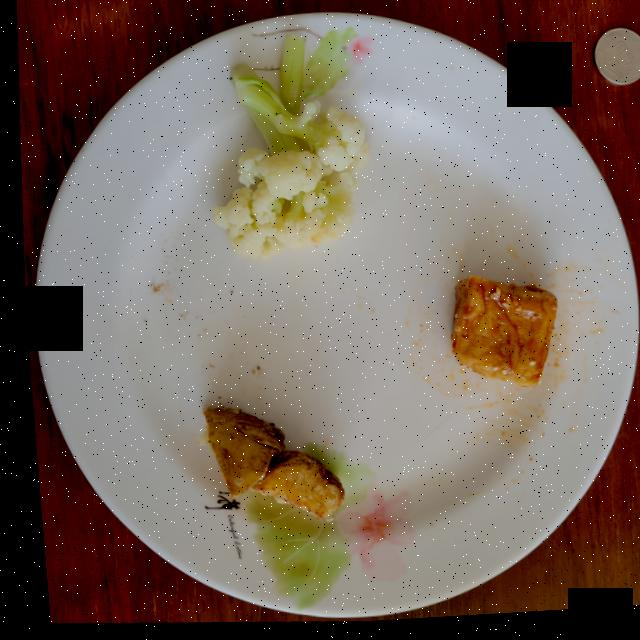coin: (593, 36, 640, 92)
creamy tofu: (446, 281, 551, 393)
fried potato: (189, 409, 336, 525)
